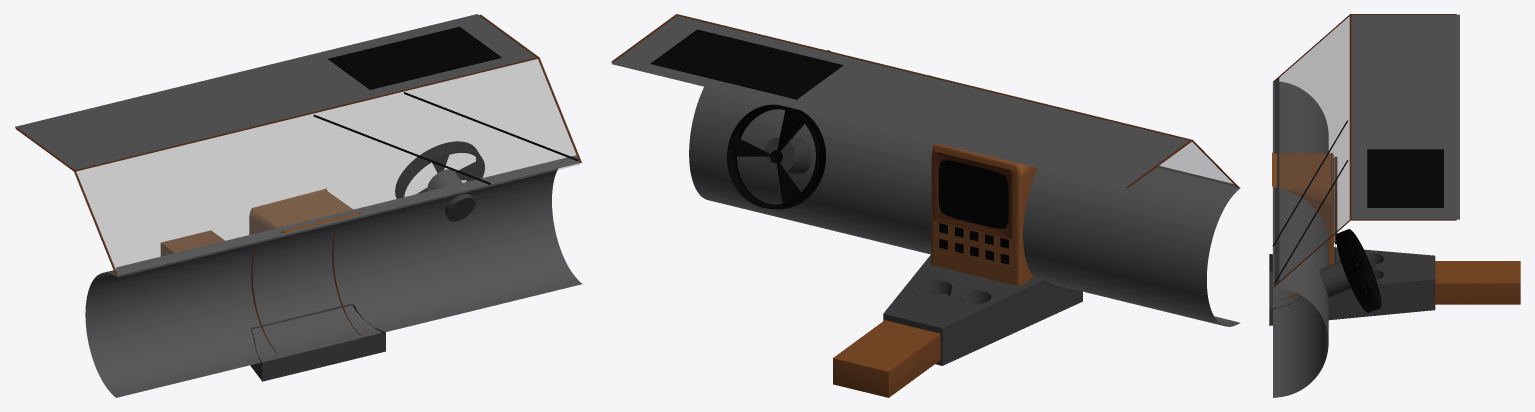
The model's file is CarInterior.fbx.
3 views of the same model, side by side, from view 1: azimuth 30°, elevation 25°; view 2: azimuth 150°, elevation 25°; view 3: azimuth 270°, elevation 25° (orthographic). The views are drawn at different scales.
Parts seen in each view (by area): view 1: Cylinder, Plane, Plane.001, Cube.012, Plane.002, Cube, Cube.001, Cylinder.001, Cylinder.002, Cube.008, Cube.002, Cube.011 (+1 smaller); view 2: Cylinder, Plane.001, Cube.001, Cube.012, Cube.003, Cube.002, Cube, Cylinder.001, Plane, Cylinder.002, Cube.008, Cube.009; view 3: Plane.001, Plane, Cylinder, Cube.001, Cube.012, Cube.002, Cube, Cylinder.001, Plane.002, Cylinder.002, Cube.008, Cube.003 (+2 smaller).
Boxes of the visible parts, x1,y1,x2,y2 form: Cylinder: [85, 162, 582, 397]; Plane: [76, 59, 579, 277]; Plane.001: [15, 14, 536, 169]; Cube.012: [328, 26, 501, 89]; Plane.002: [116, 155, 579, 273]; Cube: [249, 189, 361, 353]; Cube.001: [250, 303, 385, 381]; Cylinder.001: [395, 141, 484, 198]; Cylinder.002: [427, 169, 475, 221]; Cube.008: [74, 57, 538, 171]; Cube.002: [160, 230, 224, 256]; Cube.011: [313, 114, 490, 184]; Cylinder: [689, 87, 1240, 326]; Plane.001: [611, 15, 1189, 189]; Cube.001: [883, 254, 1082, 365]; Cube.012: [650, 29, 843, 99]; Cube.003: [933, 150, 1013, 238]; Cube.002: [833, 320, 940, 397]; Cube: [931, 143, 1037, 286]; Cylinder.001: [727, 104, 825, 209]; Plane: [1156, 142, 1236, 187]; Cylinder.002: [763, 137, 811, 175]; Cube.008: [677, 14, 1192, 140]; Cube.009: [939, 223, 1009, 264]; Plane.001: [1351, 14, 1459, 219]; Plane: [1279, 16, 1349, 280]; Cylinder: [1273, 81, 1328, 397]; Cube.001: [1269, 247, 1435, 325]; Cube.012: [1367, 149, 1443, 207]; Cube.002: [1435, 261, 1520, 304]; Cube: [1272, 152, 1333, 299]; Cylinder.001: [1336, 229, 1381, 312]; Plane.002: [1274, 78, 1279, 284]; Cylinder.002: [1319, 261, 1355, 297]; Cube.008: [1349, 14, 1351, 219]; Cube.003: [1334, 156, 1337, 243].
Bounding box in the file's own units: 31.96 × 13.95 × 16.4.
